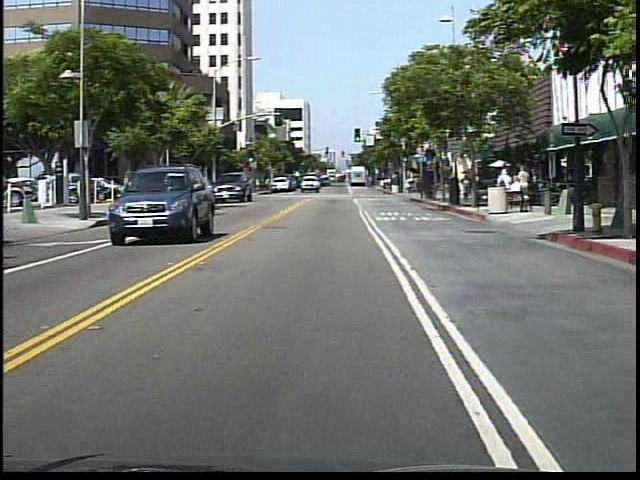person: (460, 173, 475, 205), (262, 171, 275, 198)
